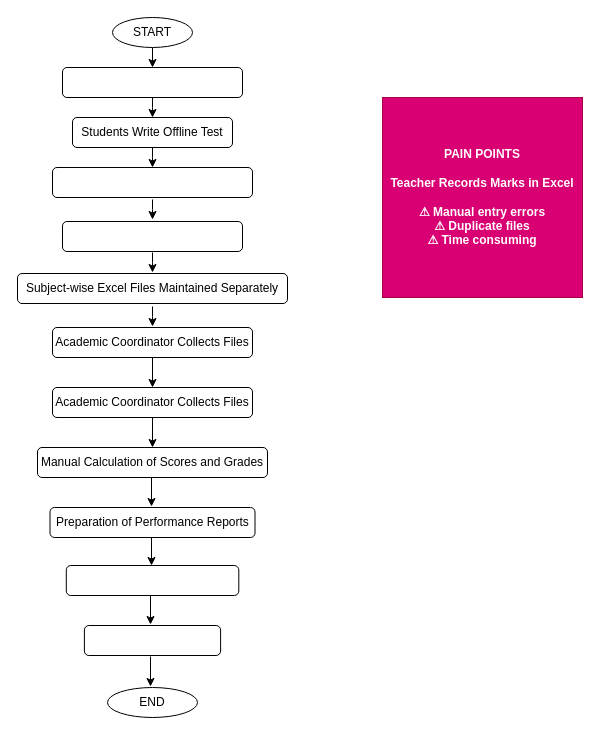
This 600x735 diagram has some shape labels left out. Here are the shapes that lost their labels. From the top down, the centre of each, then its label:
At pixel 152 82: "Teacher Conducts Assessment".
At pixel 152 182: "Teacher Evaluates Answer Sheets".
At pixel 152 236: "Teacher Records Marks in Excel".
At pixel 152 580: "Management Reviews Reports".
At pixel 152 640: "Identify Weak Students".
